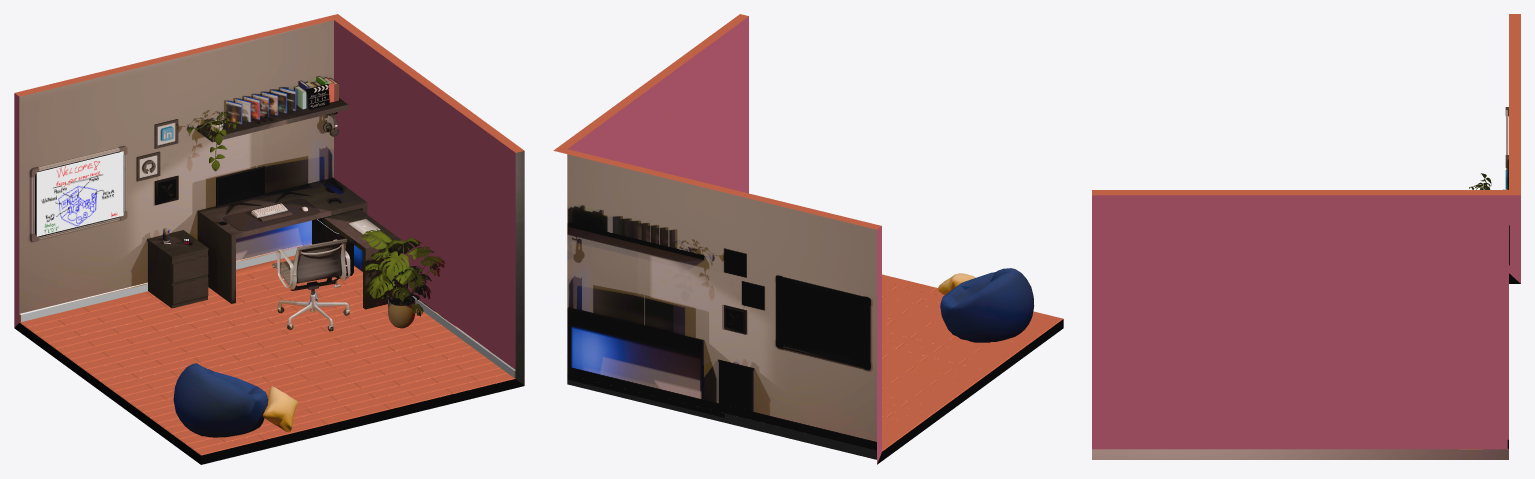
Rendered from room3.glb.
The picture shows the model from 3 angles, left to right: view 1: azimuth 30°, elevation 25°; view 2: azimuth 150°, elevation 25°; view 3: azimuth 270°, elevation 25°; orthographic projection. The views are drawn at different scales.
Visible parts, largest first — view 1: BAKED_1, BAKED_2, BAKED_3, Whiteboard_Canvas, BAKED_2.001, LeftMonitor, Whiteboard, Linkedin, Github; view 2: BAKED_1; view 3: BAKED_1.
Boxes of the visible parts, x1,y1,x2,y2 form: BAKED_1: (14, 14, 524, 464); BAKED_2: (147, 98, 401, 331); BAKED_3: (160, 76, 445, 328); Whiteboard_Canvas: (36, 151, 123, 236); BAKED_2.001: (272, 238, 350, 294); LeftMonitor: (216, 166, 265, 214); Whiteboard: (30, 146, 127, 241); Linkedin: (154, 119, 178, 148); Github: (136, 151, 160, 181); BAKED_1: (553, 14, 1063, 464); BAKED_1: (1092, 14, 1520, 459).
Bounding box in the file's own units: 9.36 × 6.5 × 9.36.
Materials: 16 (4 with a texture image).
